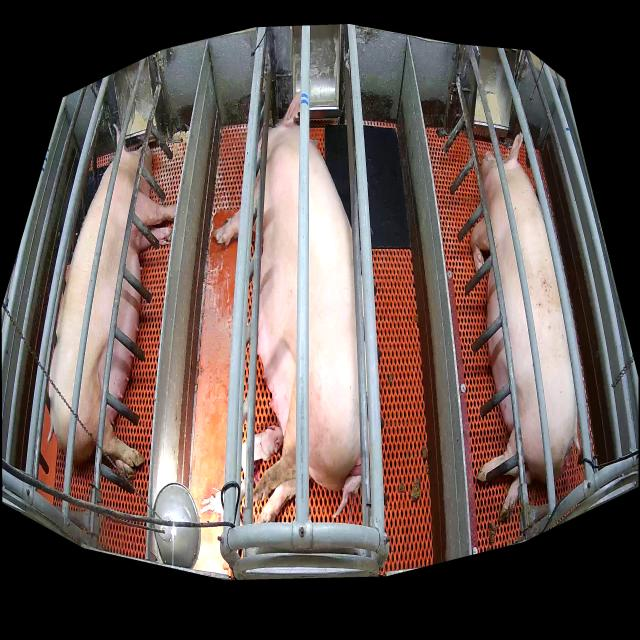pig: (215, 92, 362, 523), (48, 123, 176, 479), (471, 130, 580, 519), (241, 424, 283, 478), (334, 476, 360, 518), (201, 486, 224, 515)
